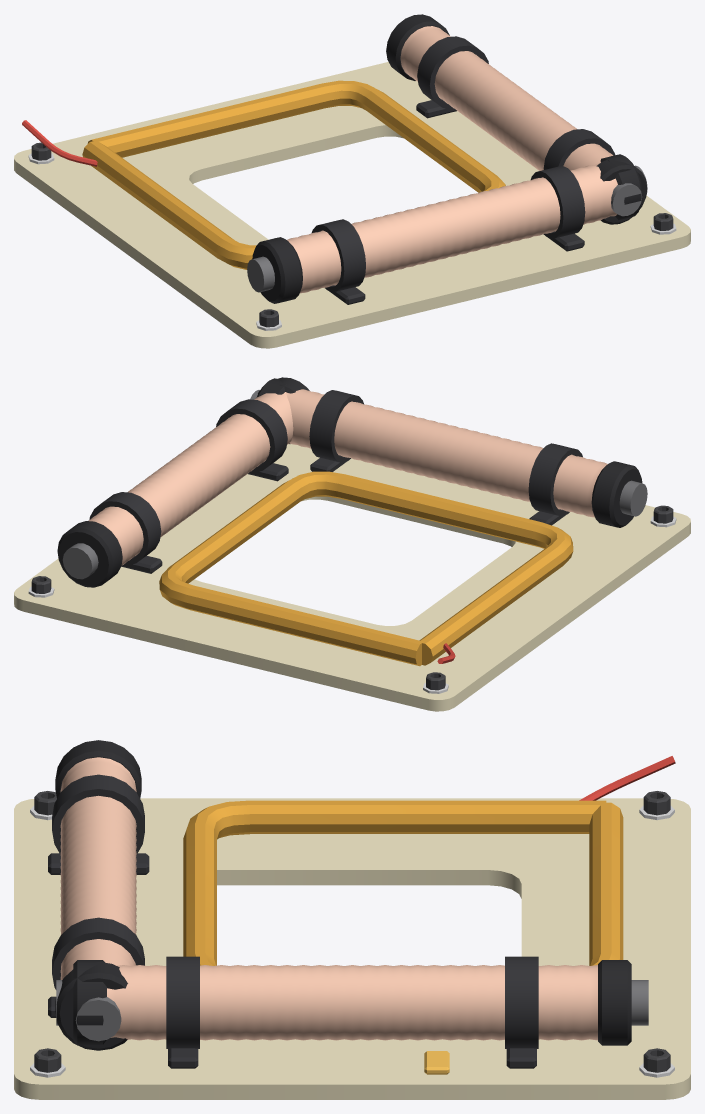
The model's file is magnetorquer_set.glb.
3 views of the same model, one above another, from view 1: azimuth 30°, elevation 25°; view 2: azimuth 150°, elevation 25°; view 3: azimuth 270°, elevation 25° (orthographic). The views are drawn at different scales.
Parts seen in each view (by area): view 1: magnetorquer_set, rod_x, rod_z; view 2: magnetorquer_set, rod_x, rod_z; view 3: magnetorquer_set, rod_z, rod_x.
Boxes of the visible parts, x1,y1,x2,y2 form: magnetorquer_set: (14, 62, 690, 348); rod_x: (247, 154, 647, 304); rod_z: (386, 14, 646, 224); magnetorquer_set: (14, 444, 690, 711); rod_x: (250, 378, 647, 527); rod_z: (57, 377, 309, 587); magnetorquer_set: (14, 756, 690, 1099); rod_z: (56, 956, 648, 1068); rod_x: (48, 740, 149, 1050).
Bounding box in the file's own units: 0.08 × 0.0135 × 0.08.
